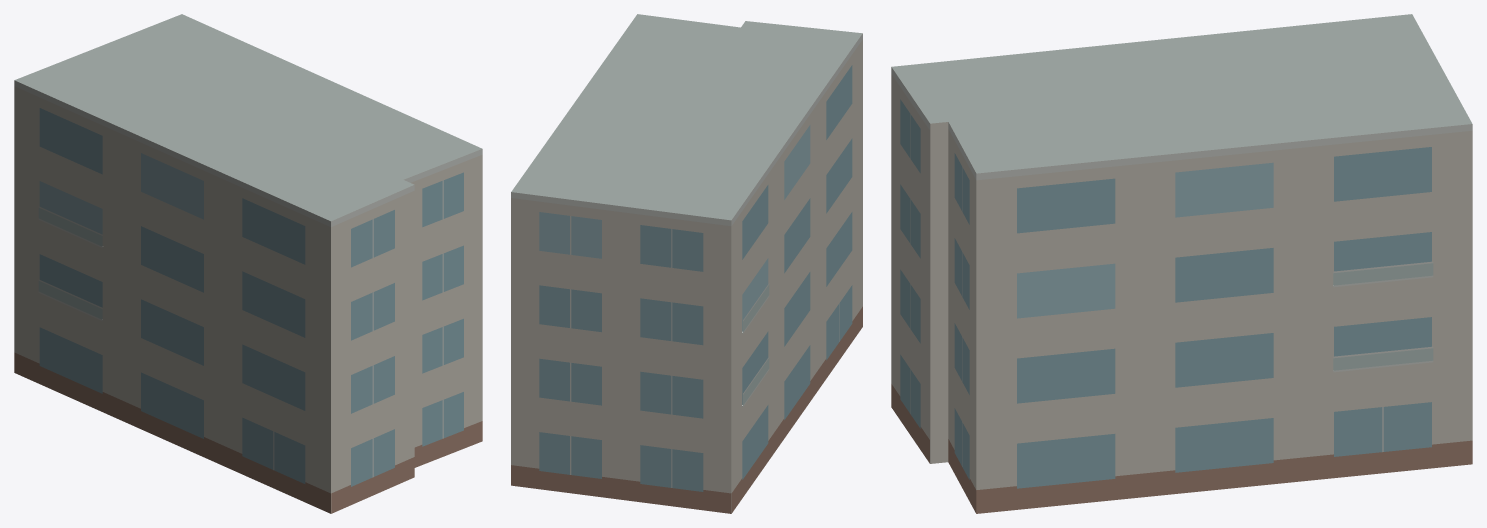
File: survey-upis-32641551.glb
The picture shows the model from 3 angles, left to right: view 1: azimuth 30°, elevation 25°; view 2: azimuth 150°, elevation 25°; view 3: azimuth 270°, elevation 25°; orthographic projection. The views are drawn at different scales.
Visible parts, largest first — view 1: survey-upis-32641551.tmp; view 2: survey-upis-32641551.tmp; view 3: survey-upis-32641551.tmp.
Part boxes in pixels (x1=…): survey-upis-32641551.tmp: x1=14, y1=14, x2=482, y2=513; survey-upis-32641551.tmp: x1=511, y1=14, x2=862, y2=513; survey-upis-32641551.tmp: x1=891, y1=14, x2=1472, y2=513.
Size of the model in its own units: 12.28 by 12.2 by 18.89.
